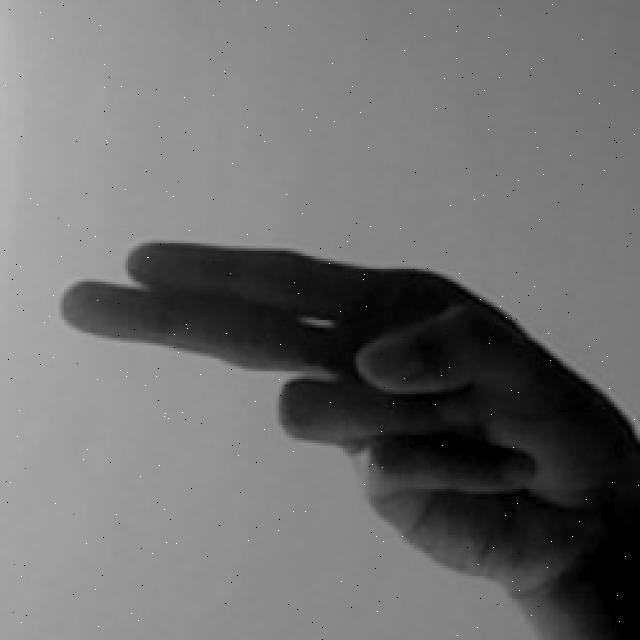H: (53, 233, 640, 640)
